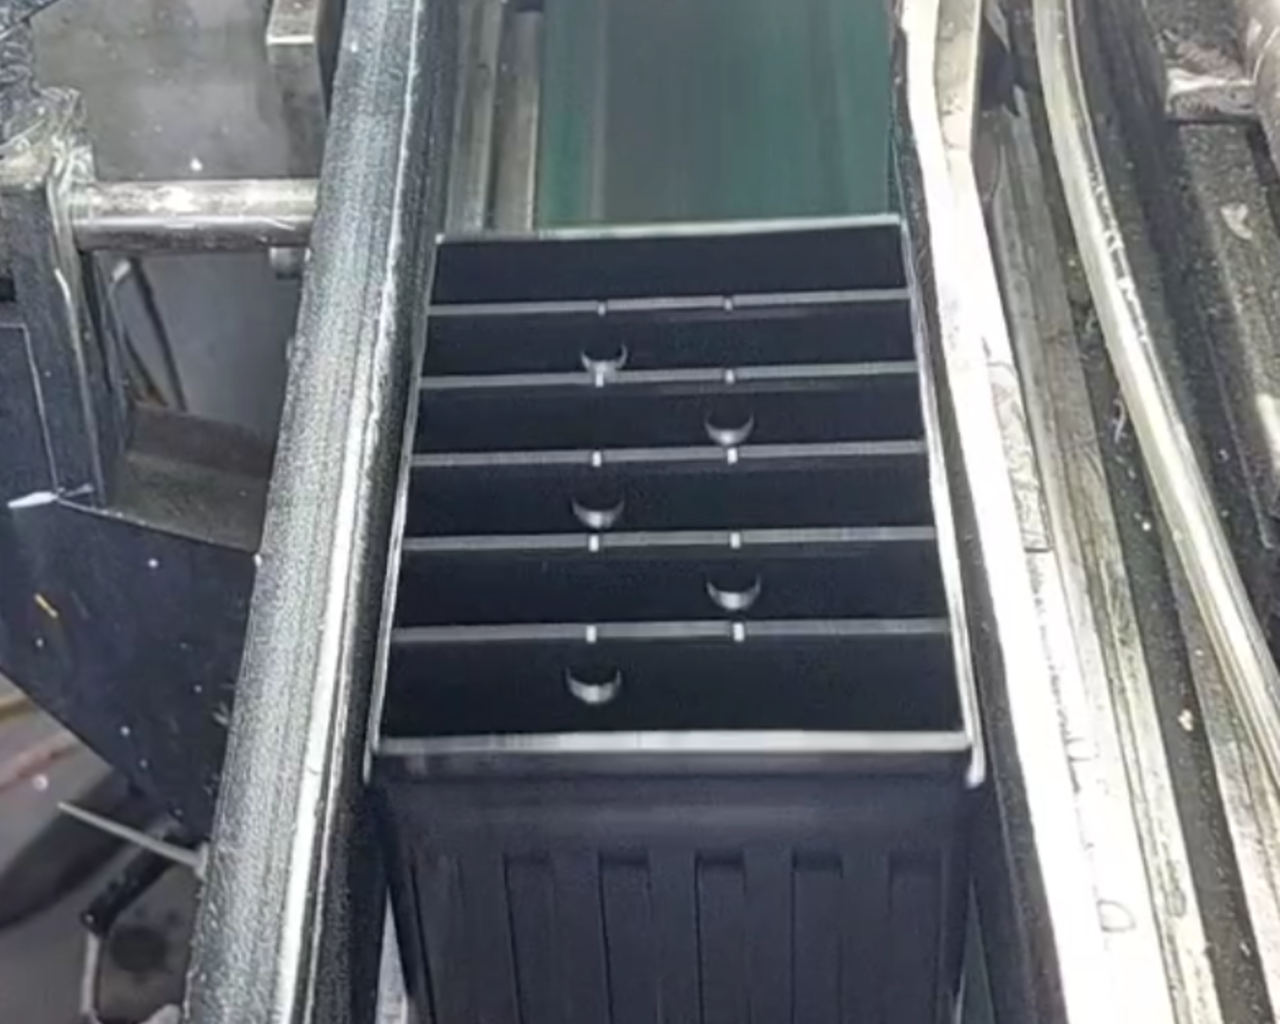box: (340, 196, 1010, 807)
round: (549, 643, 636, 712), (690, 551, 775, 619), (559, 469, 634, 534), (690, 381, 762, 448), (568, 315, 636, 378)
